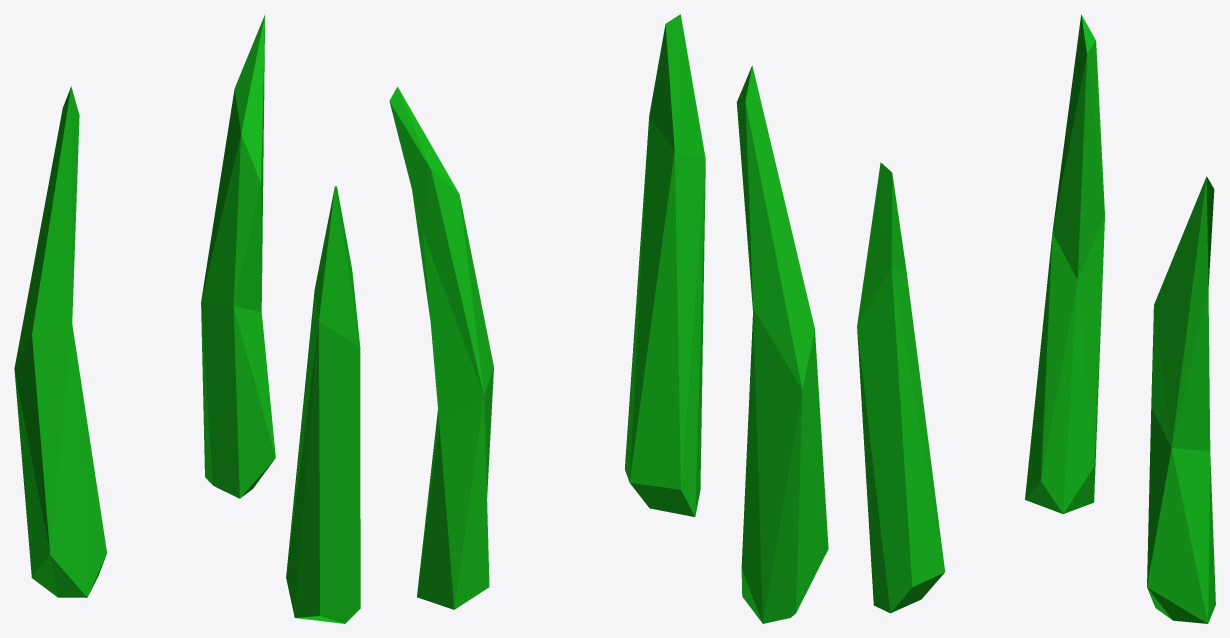
Rendered from grass.fbx.
3 views of the same model, side by side, from view 1: azimuth 30°, elevation 25°; view 2: azimuth 150°, elevation 25°; view 3: azimuth 270°, elevation 25° (orthographic). The views are drawn at different scales.
Visible parts, largest first — view 1: grass strands; view 2: grass strands; view 3: grass strands.
Boxes of the visible parts, x1,y1,x2,y2 form: grass strands: (14, 15, 360, 623); grass strands: (389, 14, 828, 623); grass strands: (857, 14, 1215, 623).
Bounding box in the file's own units: 47.05 × 72.99 × 46.78.
